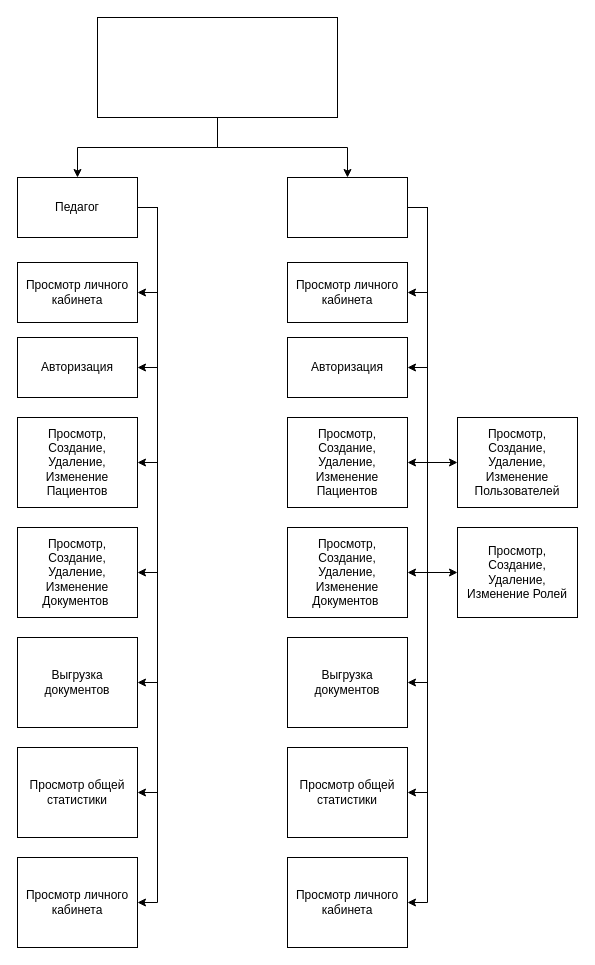
Image size: 595x965. Some labels were removed from this diagram. The centre of each missing label's shape, as x and y in pixels:
Администратор: pixel 347 207
Схема тестирования программного комплекса "Природа разума": pixel 217 67
